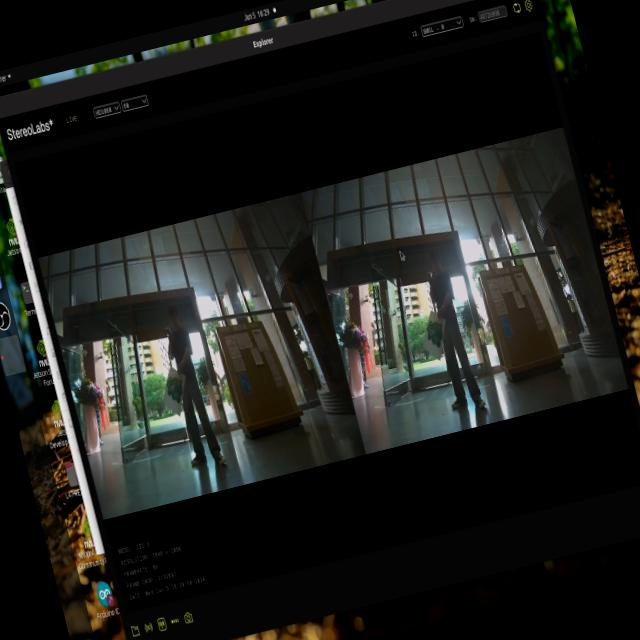green: (158, 369, 186, 408), (426, 319, 448, 354)
